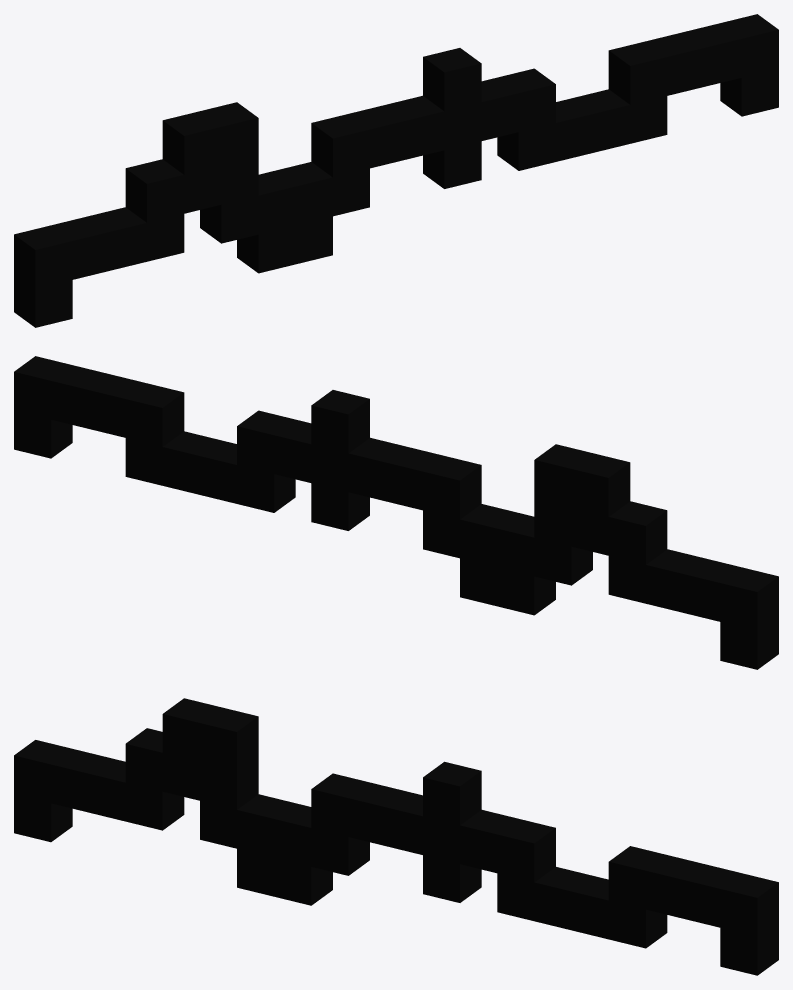
The model's file is Gauge_Gore_Thick_Empty.002.fbx.
3 views of the same model, one above another, from view 1: azimuth 30°, elevation 25°; view 2: azimuth 150°, elevation 25°; view 3: azimuth 330°, elevation 25° (orthographic).
Visible parts, largest first — view 1: Gauge_Gore_Thick_Empty.002; view 2: Gauge_Gore_Thick_Empty.002; view 3: Gauge_Gore_Thick_Empty.002.
Part boxes in pixels (x1,y1,x2,y2): Gauge_Gore_Thick_Empty.002: (14,14,778,327); Gauge_Gore_Thick_Empty.002: (14,356,778,669); Gauge_Gore_Thick_Empty.002: (14,698,778,975).
Size of the model in its own units: 2 by 0.4 by 0.1.
